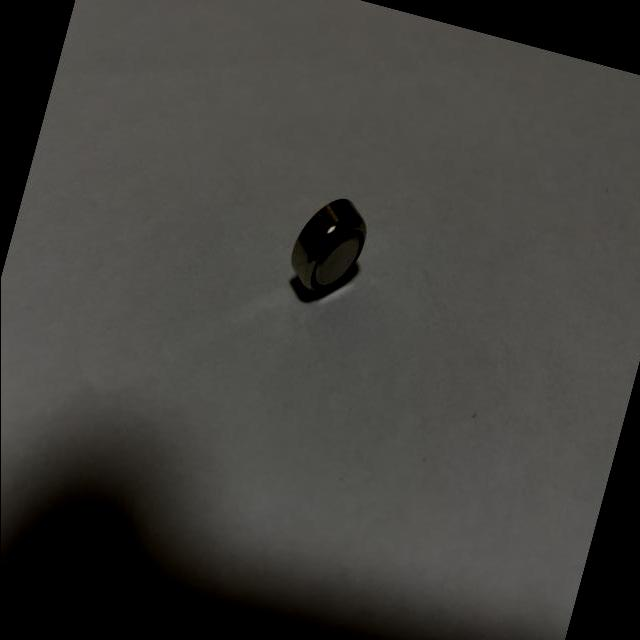COIN: (282, 185, 376, 302)
